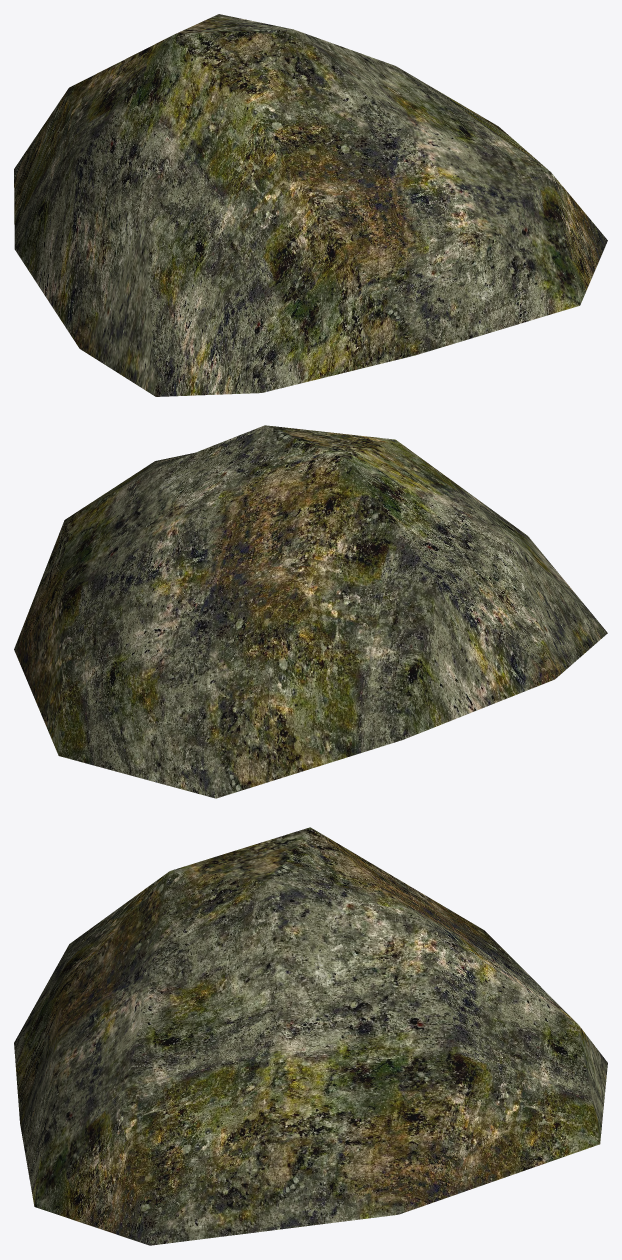
The model's file is NW_NATURE_STONE_BIGHIGH_01.glb.
The picture shows the model from 3 angles, top to bottom: view 1: azimuth 30°, elevation 25°; view 2: azimuth 150°, elevation 25°; view 3: azimuth 270°, elevation 25°; orthographic projection. The views are drawn at different scales.
Parts seen in each view (by area): view 1: Mesh; view 2: Mesh; view 3: Mesh.
Part boxes in pixels (x1,y1,x2,y2): Mesh: [14, 14, 607, 396]; Mesh: [14, 425, 607, 798]; Mesh: [14, 827, 607, 1245].
Size of the model in its own units: 6.51 by 2.94 by 6.41.
Materials: 1 (1 with a texture image).
